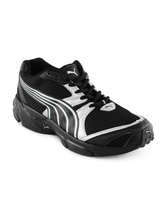shoes: (9, 58, 156, 155)
